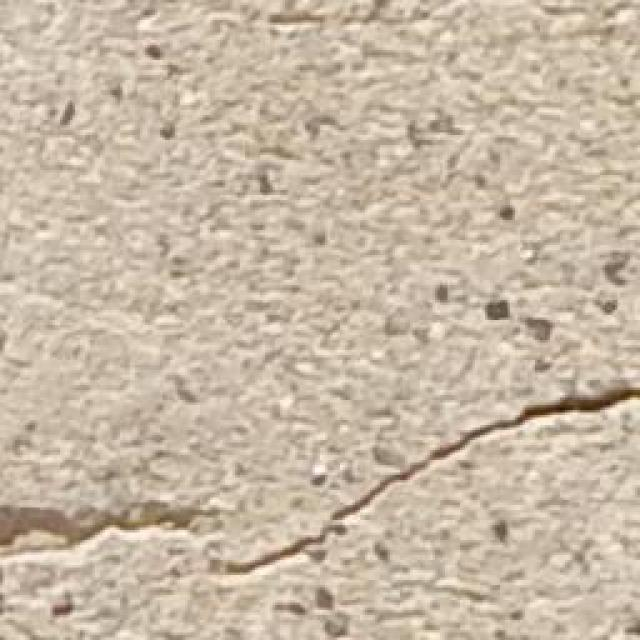concrete-crack: (0, 377, 636, 577)
